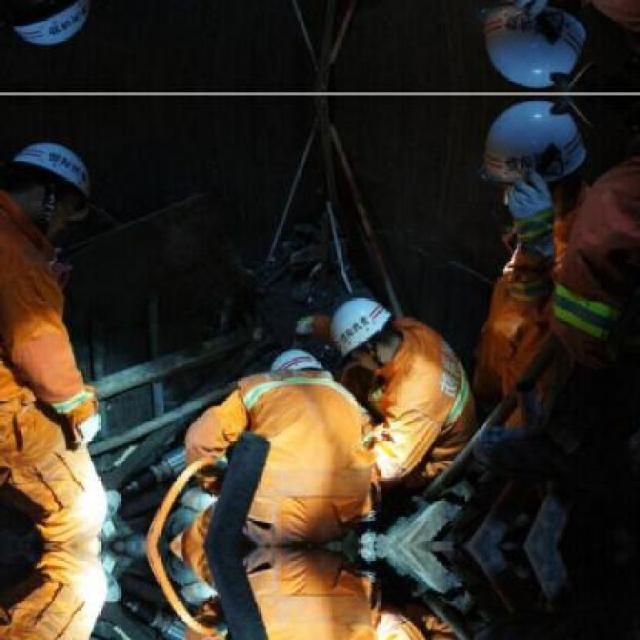Reflective-Jacket: (177, 363, 381, 539), (537, 148, 640, 432), (0, 195, 98, 447), (366, 317, 483, 491)
Safety-Helmet: (466, 99, 597, 192), (4, 134, 108, 209), (320, 289, 403, 365)
